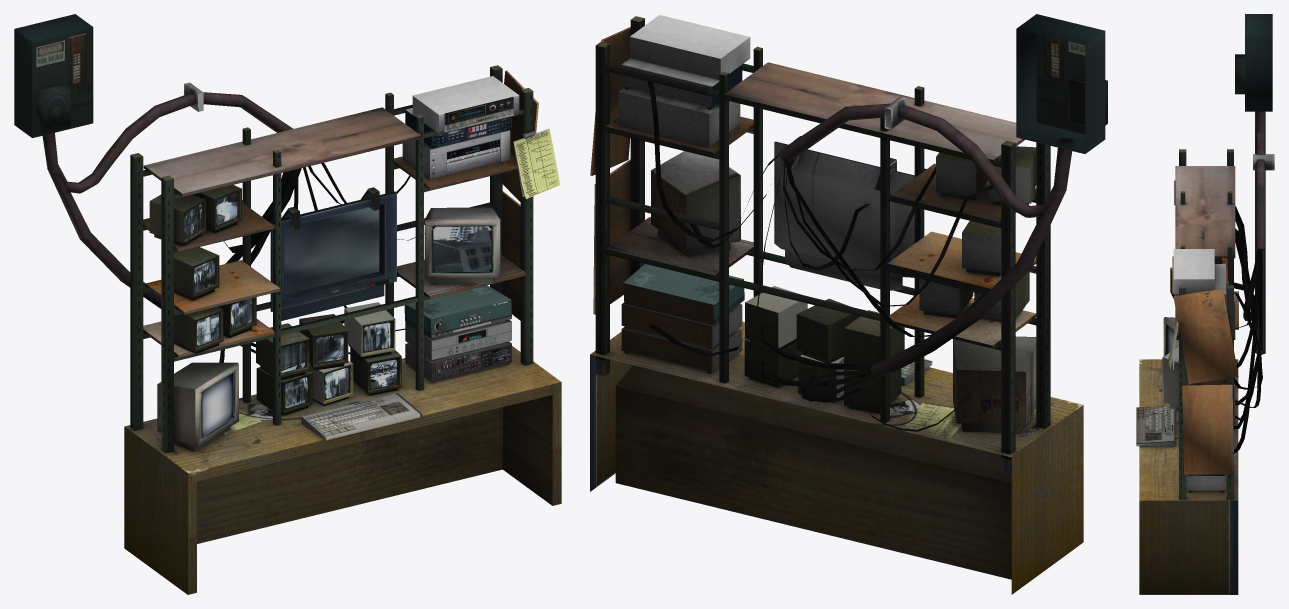
File: servers.glb
3 views of the same model, side by side, from view 1: azimuth 30°, elevation 25°; view 2: azimuth 150°, elevation 25°; view 3: azimuth 270°, elevation 25° (orthographic). The views are drawn at different scales.
Visible parts, largest first — view 1: Object_2, Object_3, Object_6, Object_5, Object_4; view 2: Object_2; view 3: Object_2.
Part boxes in pixels (x1=…): Object_2: x1=14, y1=14, x2=561, y2=594; Object_3: x1=184, y1=193, x2=396, y2=408; Object_6: x1=284, y1=207, x2=379, y2=294; Object_5: x1=433, y1=226, x2=491, y2=271; Object_4: x1=202, y1=374, x2=233, y2=436; Object_2: x1=590, y1=14, x2=1107, y2=594; Object_2: x1=1136, y1=14, x2=1274, y2=594.
Size of the model in its own units: 3.55 by 3.71 by 1.14.
Materials: 5 (5 with a texture image).
